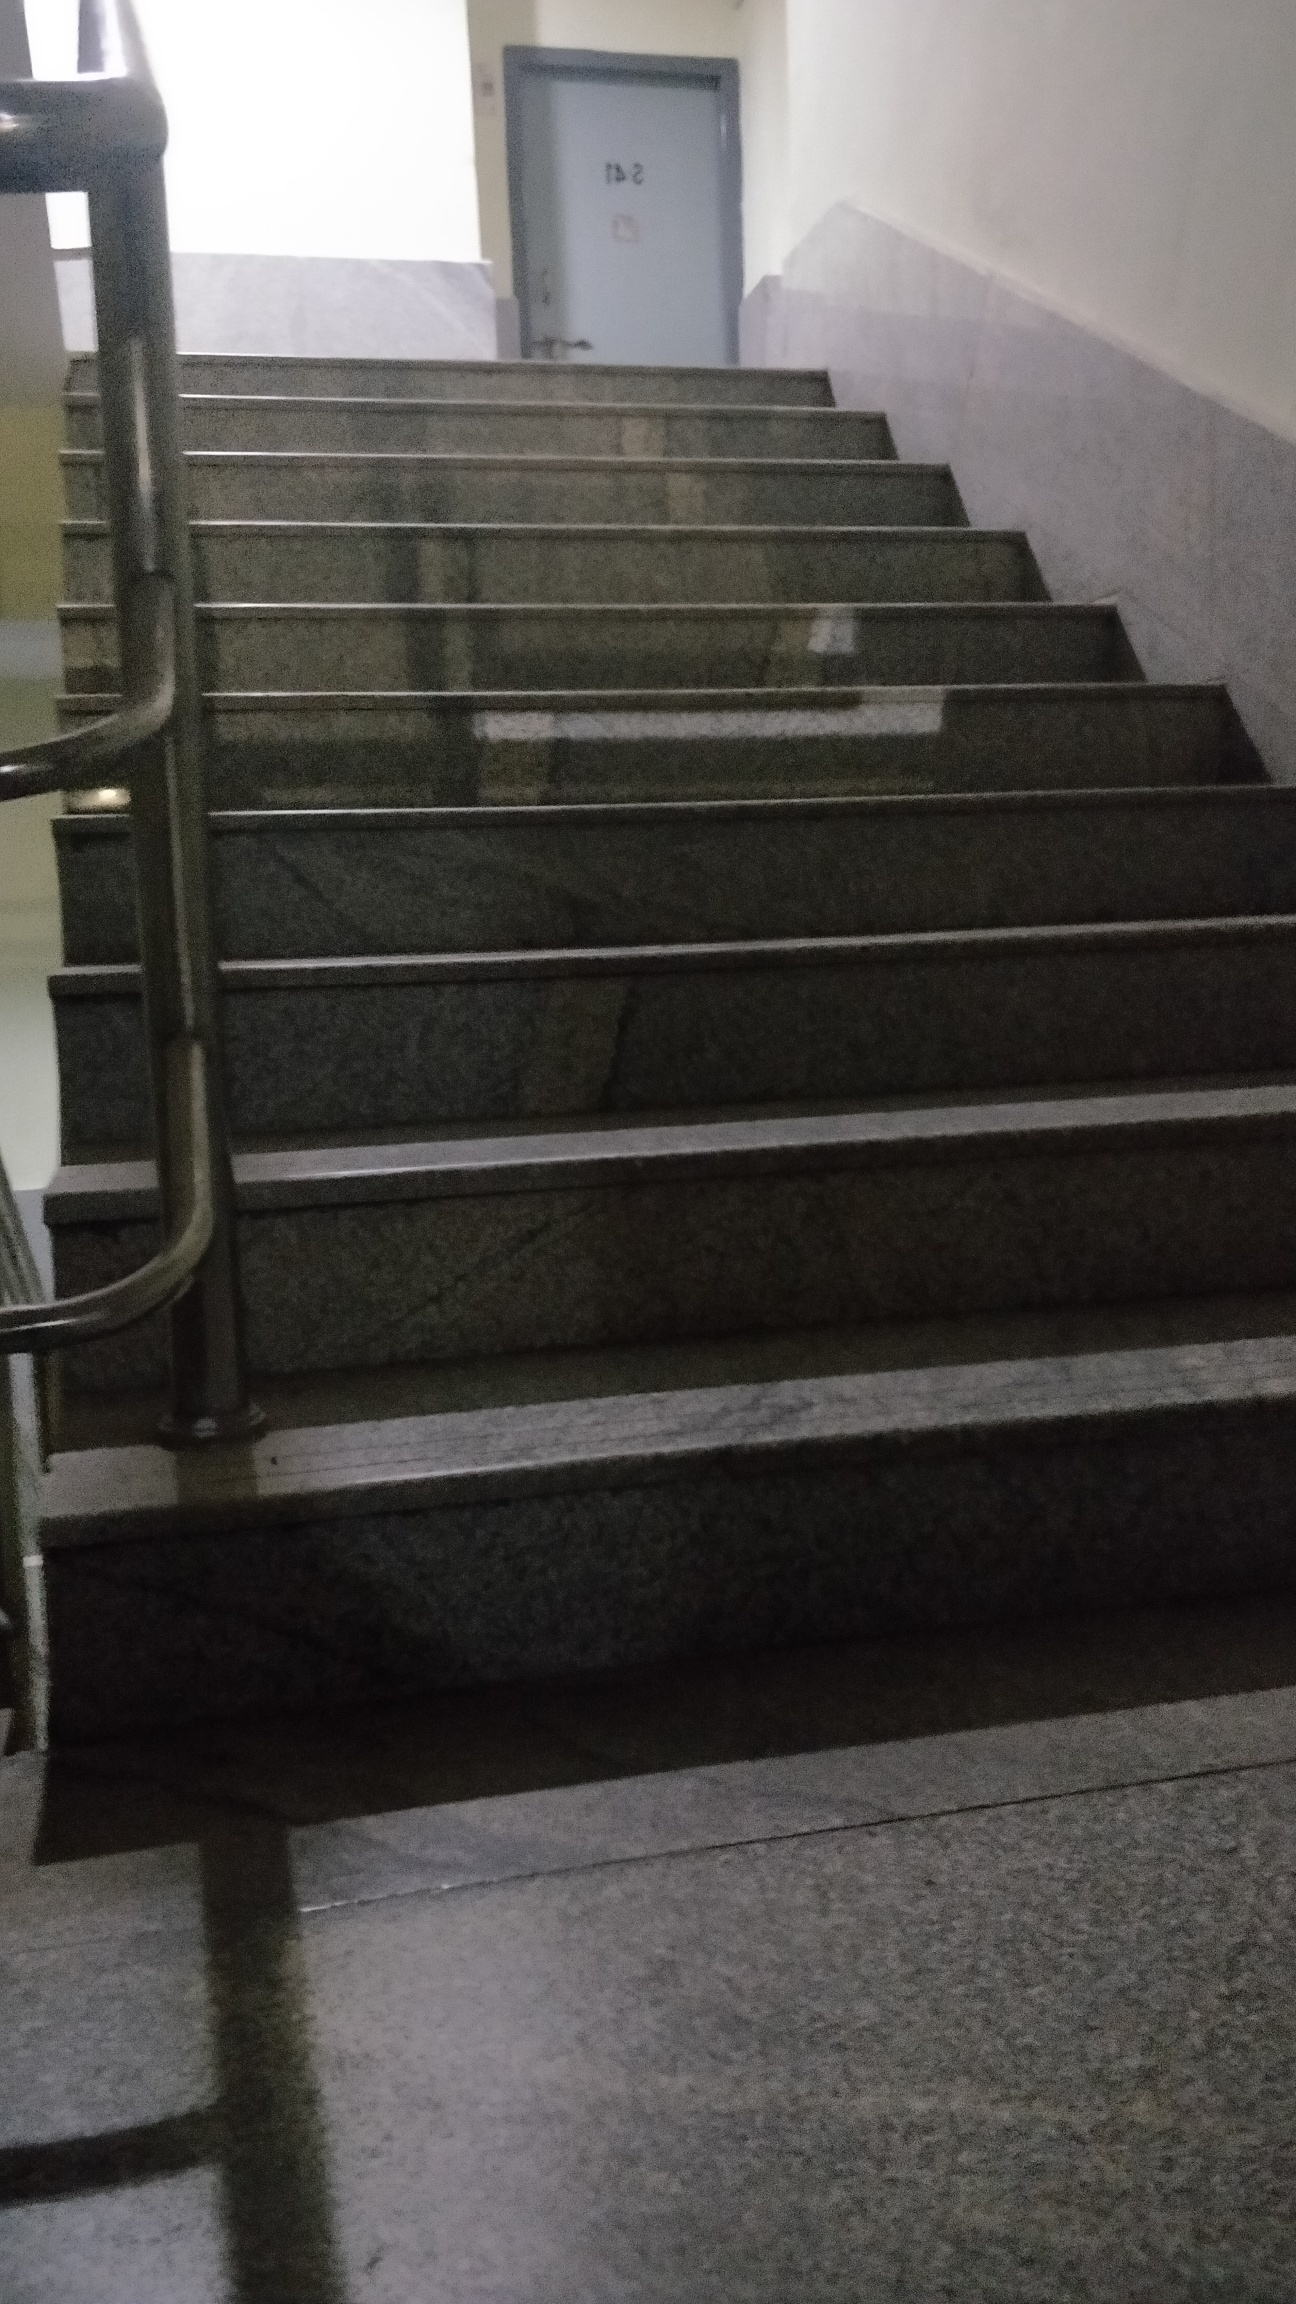stairs_up: (41, 318, 1296, 1726)
